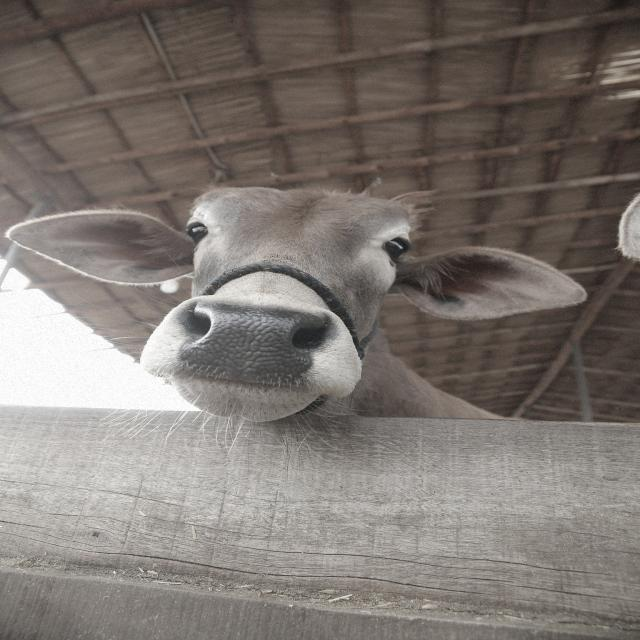muzzles: (175, 294, 340, 397)
